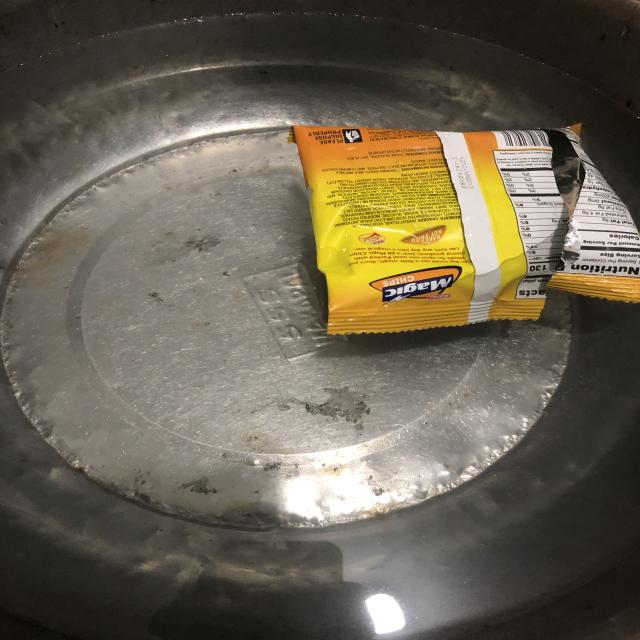Plastic Wrapper: (293, 125, 640, 334), (436, 199, 439, 204)
